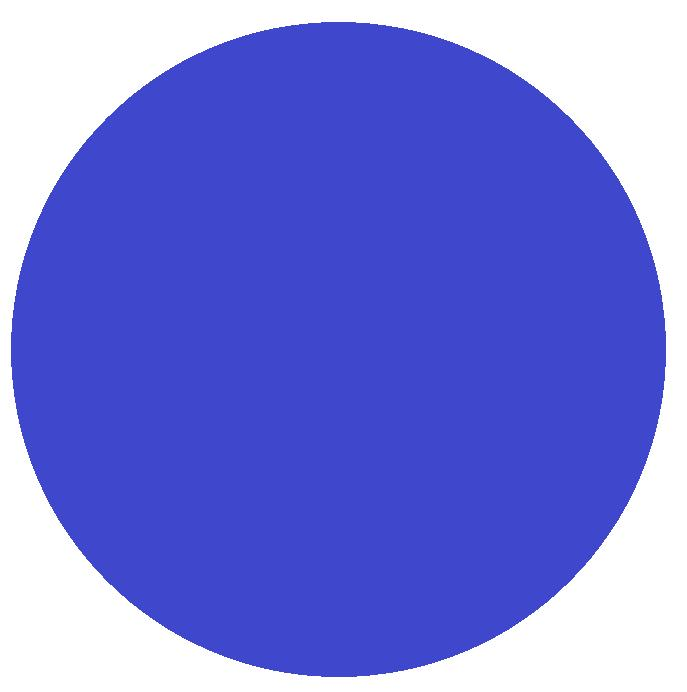blue_circle: (3, 5, 681, 684)
